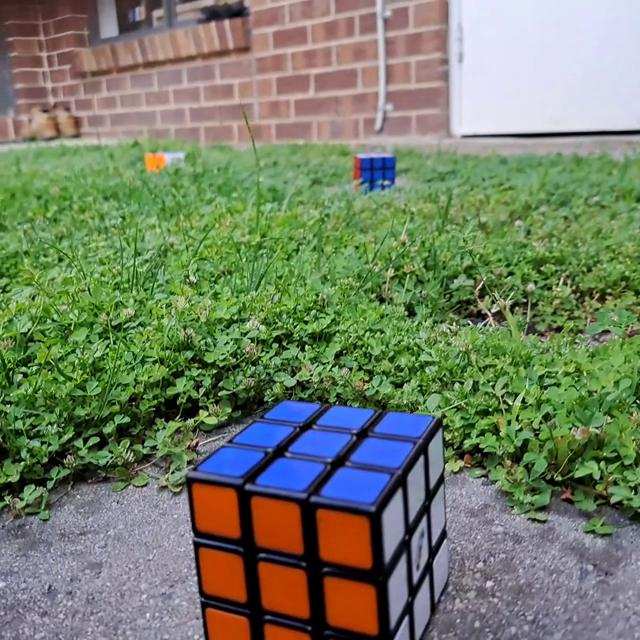rubix_cube: (180, 393, 453, 640), (352, 151, 399, 199), (141, 149, 190, 180)
